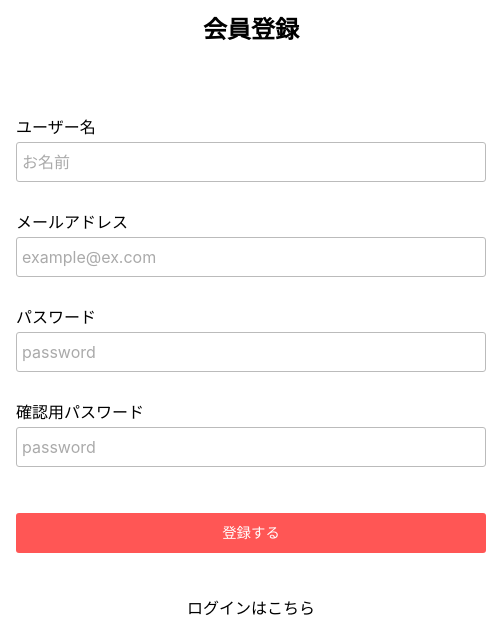
Test case: 1. 会員登録機能 › 1-1. 名前が入力されていない場合、バリデーションメッセージが表示される
Type "test@example.com" into the field with test id "email" at coordinates (251, 257), box [16,237,486,277]
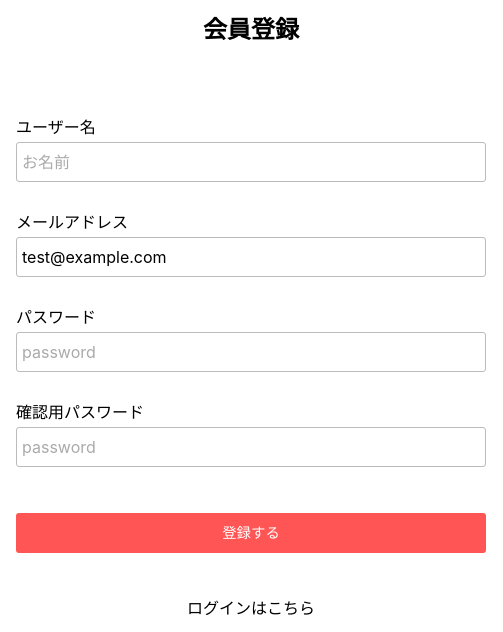
Type "password123" into the password field with test id "password" at coordinates (251, 352), box [16,332,486,372]
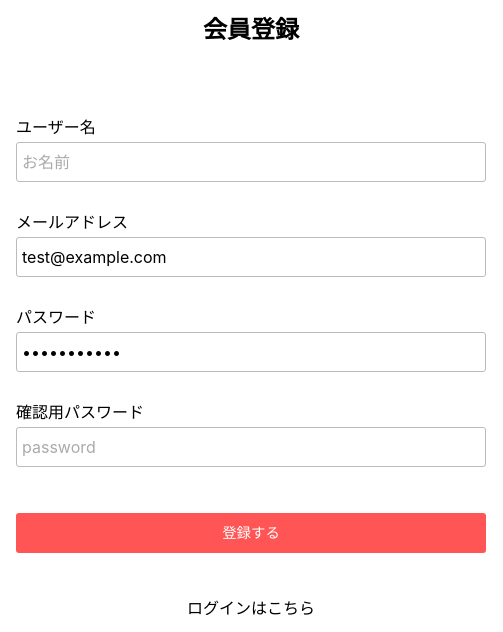
Type "password123" into the password field with test id "confirm_password" at coordinates (251, 447), box [16,427,486,467]
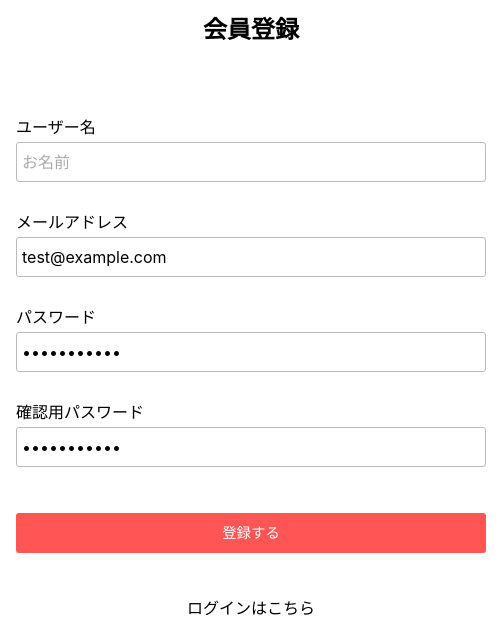
Click the button with test id "submit" at coordinates (251, 533), box [16,513,486,553]
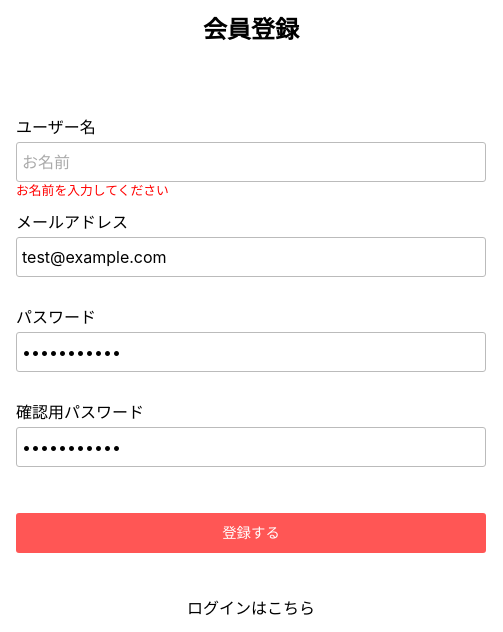
Expected: the text with test id "error-name" reads "お名前を入力してください", [16,183,169,198]
